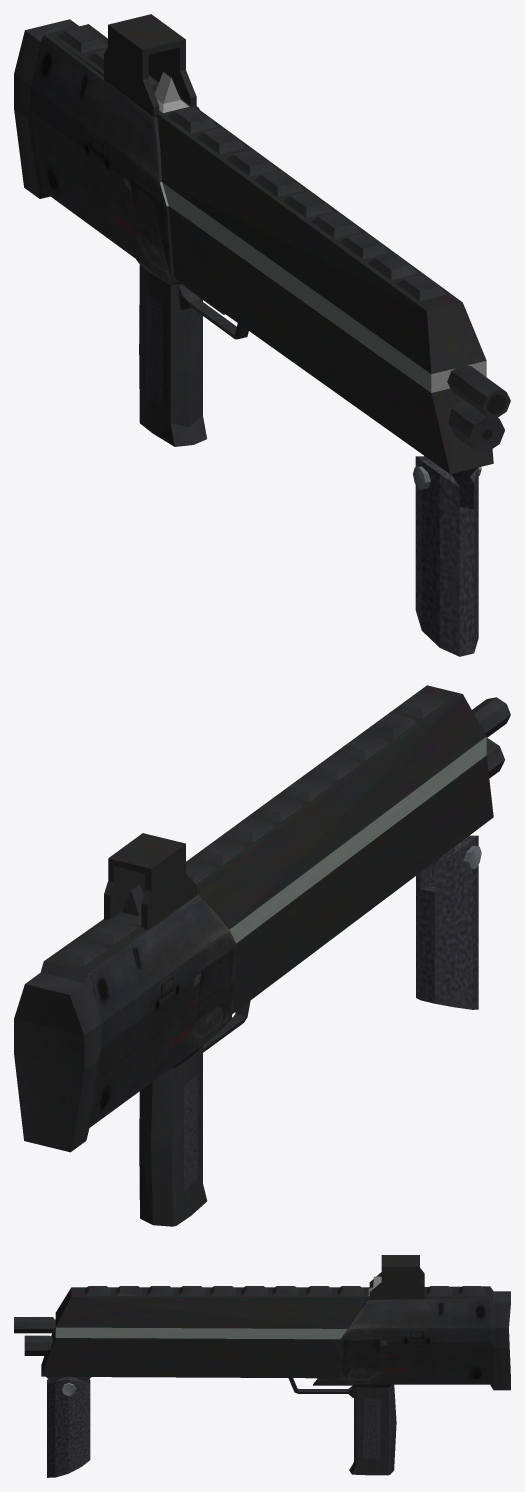
Rendered from smg_m45.obj.
The picture shows the model from 3 angles, top to bottom: view 1: azimuth 30°, elevation 25°; view 2: azimuth 150°, elevation 25°; view 3: azimuth 270°, elevation 25°; orthographic projection. The views are drawn at different scales.
Parts seen in each view (by area): view 1: Cube; view 2: Cube; view 3: Cube.
Part boxes in pixels (bbox=[...]): Cube: bbox=[14, 14, 510, 656]; Cube: bbox=[14, 685, 510, 1226]; Cube: bbox=[14, 1255, 510, 1477].
Size of the model in its own units: 0.0629 by 0.3315 by 0.6945.
